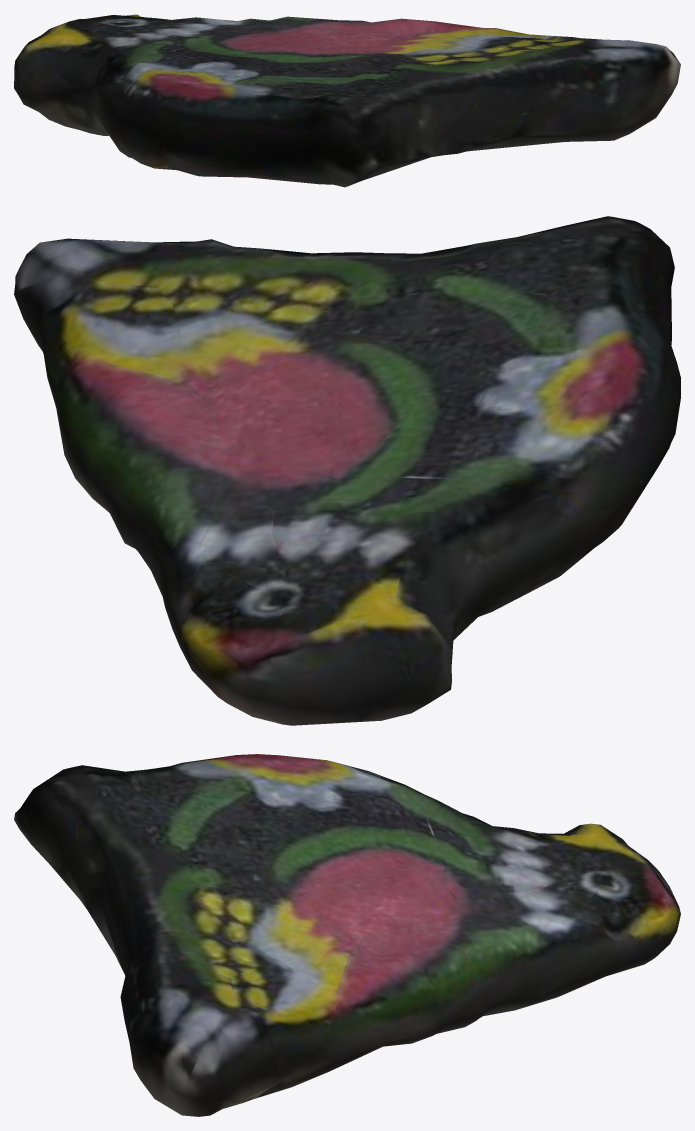
File: hall.glb
3 renders of one model, top to bottom at view 1: azimuth 30°, elevation 25°; view 2: azimuth 150°, elevation 25°; view 3: azimuth 270°, elevation 25°, orthographic. The views are drawn at different scales.
Bounding box in the file's own units: 0.5113 × 0.1662 × 0.5256.
Materials: 1 (1 with a texture image).
